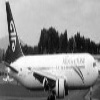faced: (29, 42, 71, 79)
